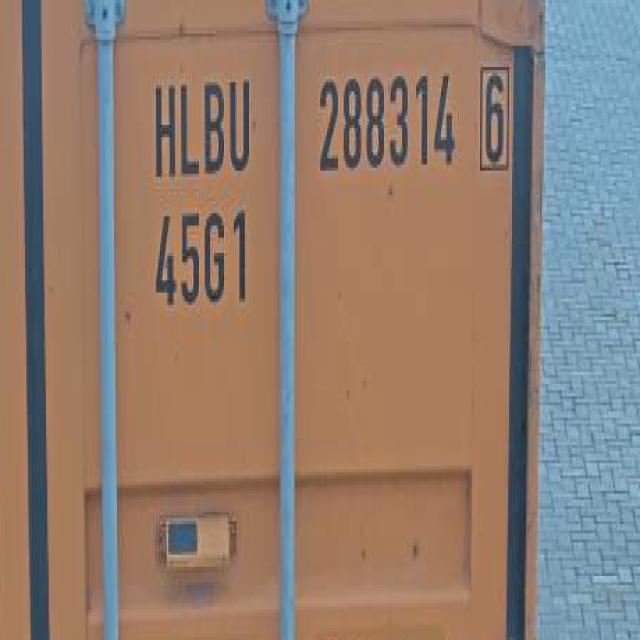dv: (475, 55, 512, 190)
owner: (147, 58, 257, 188)
serial: (316, 52, 460, 183)
size: (148, 200, 257, 318)
